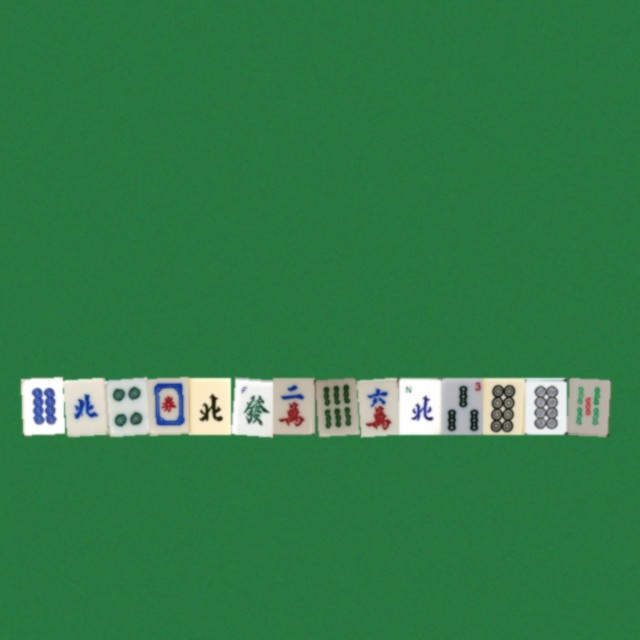tile: (20, 377, 62, 434), (62, 377, 104, 434), (104, 377, 146, 434), (146, 377, 188, 434), (188, 377, 230, 434), (230, 377, 272, 434), (272, 377, 314, 434), (314, 377, 356, 434), (356, 377, 398, 434), (398, 377, 440, 434), (440, 377, 482, 434), (482, 377, 524, 434), (524, 377, 566, 434), (566, 377, 608, 434)
